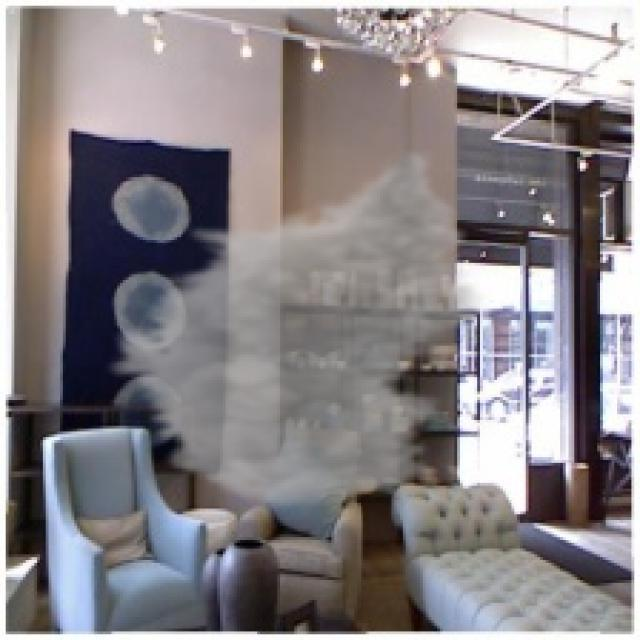Smoke: (100, 146, 494, 512)
